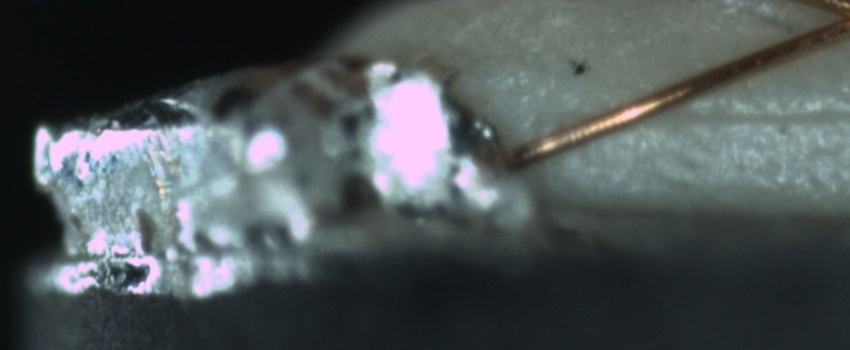CL: (808, 2, 850, 42)
DL: (615, 81, 848, 149)
